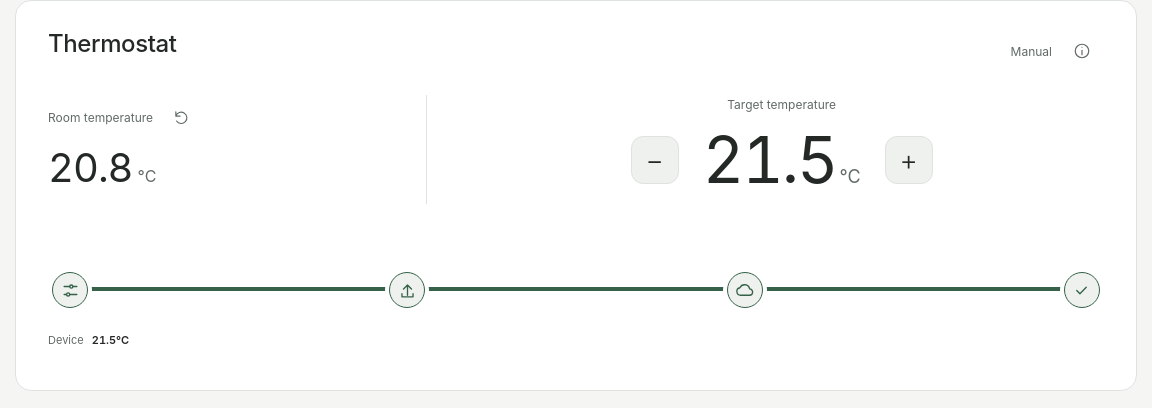
renders immediate optimistic changes with accessible controls
What coordinates should you click on to do the following:
click the button named "Increase target temperature by 0.5 degrees"
I would click on:
 (908, 160)
Its box is [884,136,932,184].
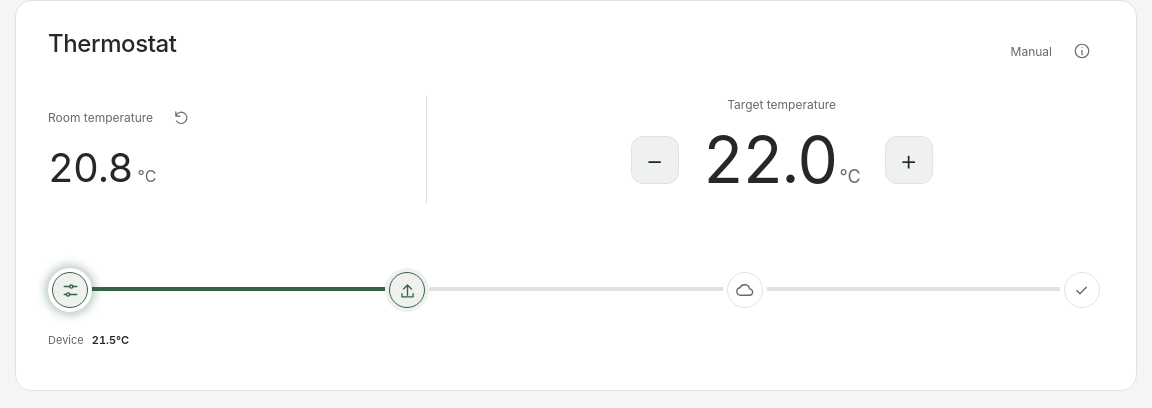
What coordinates should you click on to do the following:
click the button named "Increase target temperature by 0.5 degrees"
I would click on:
 (908, 160)
Its box is [884,136,932,184].
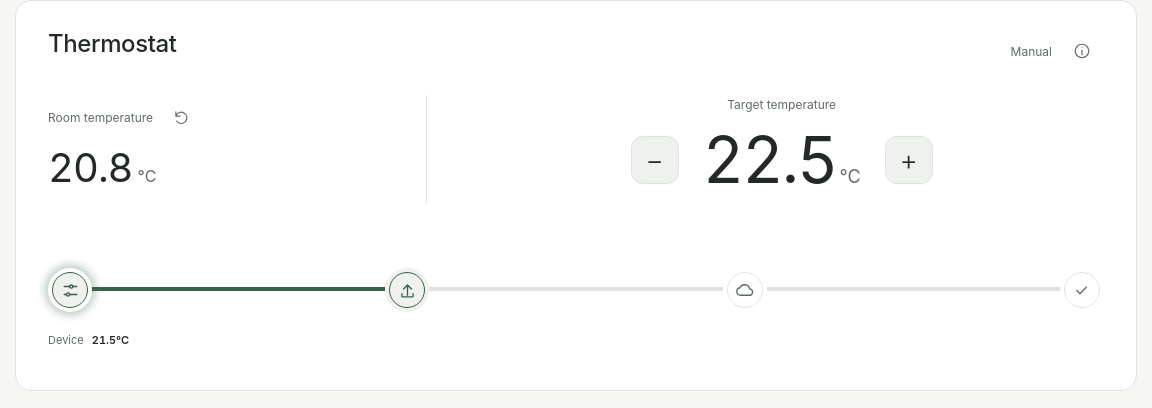
What coordinates should you click on to do the following:
click the button named "Increase target temperature by 0.5 degrees"
I would click on:
 (908, 160)
Its box is [884,136,932,184].
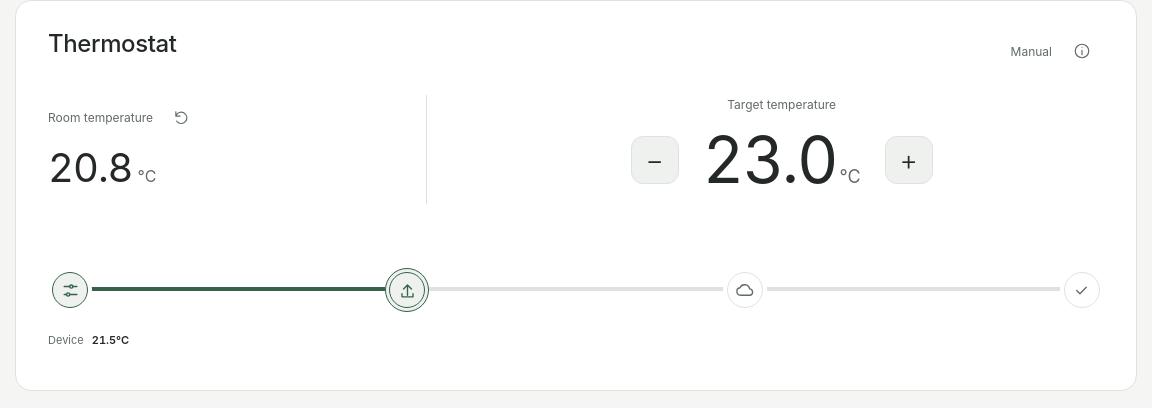
Expected: the text "21.5°C" is shown, [92,333,129,347]
Expected: the element named "Desired target temperature" shows "23.0", [703,121,836,198]
